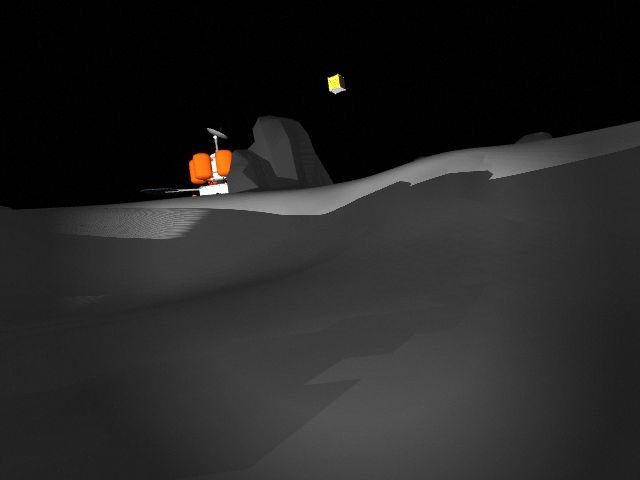cubesat: (322, 72, 356, 102)
